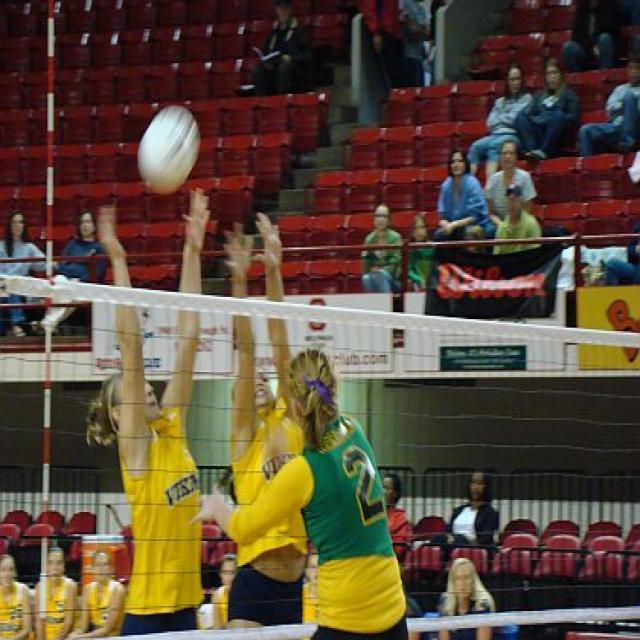volleyball: (137, 106, 198, 194)
